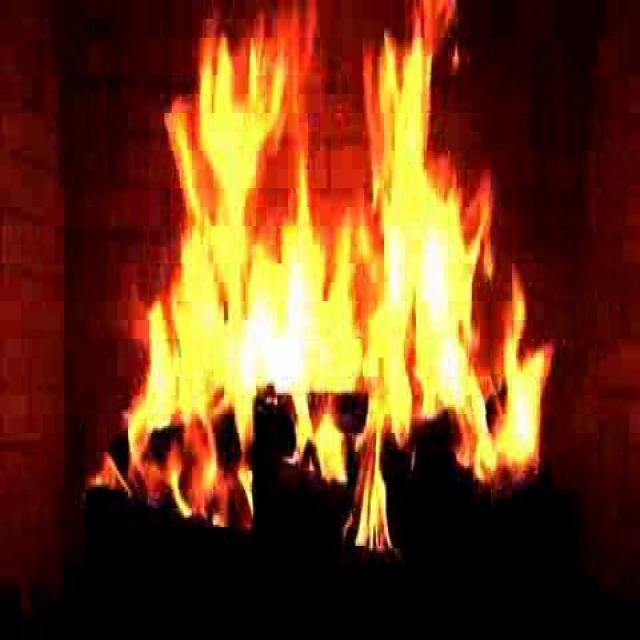Fire: (143, 26, 522, 528)
